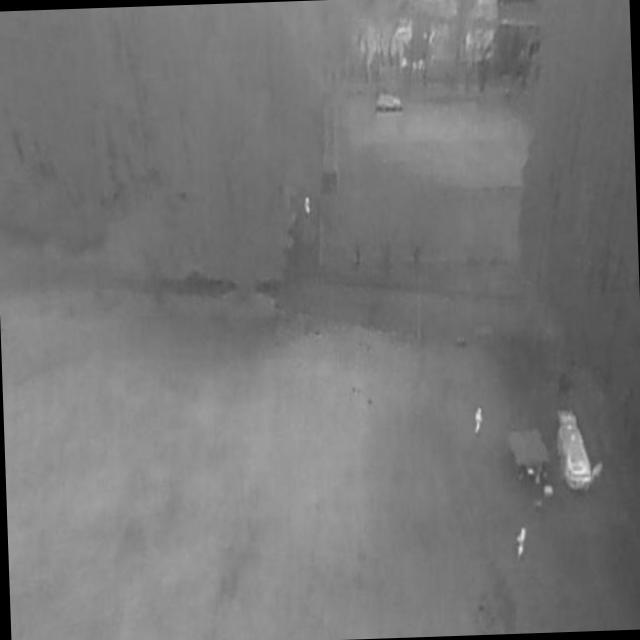person: (515, 528, 528, 559), (473, 407, 485, 437), (304, 196, 314, 217)
